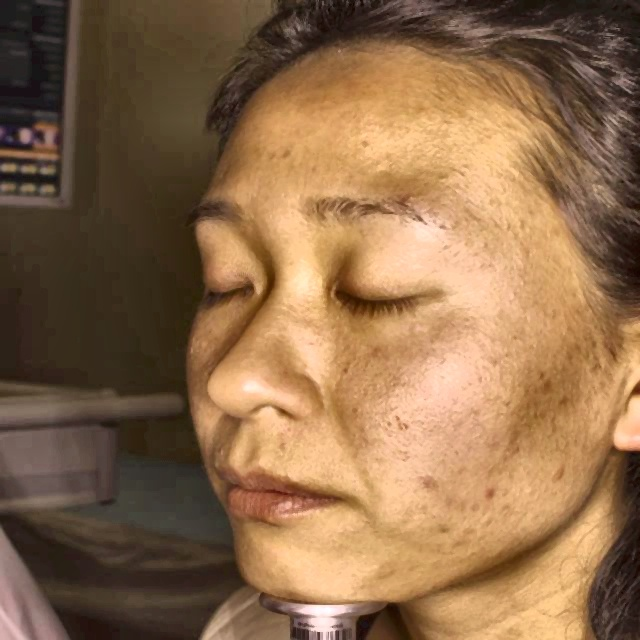comedone: (550, 465, 572, 485), (480, 481, 501, 499)
